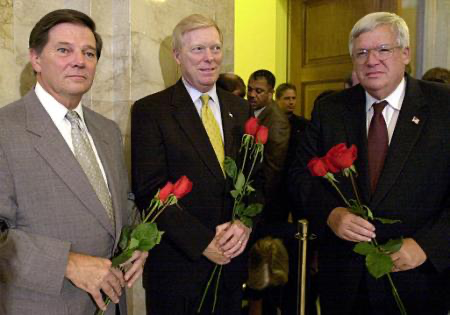Face: (45, 35, 99, 100), (354, 39, 400, 97), (182, 36, 223, 86), (243, 78, 267, 105), (281, 88, 297, 112)
